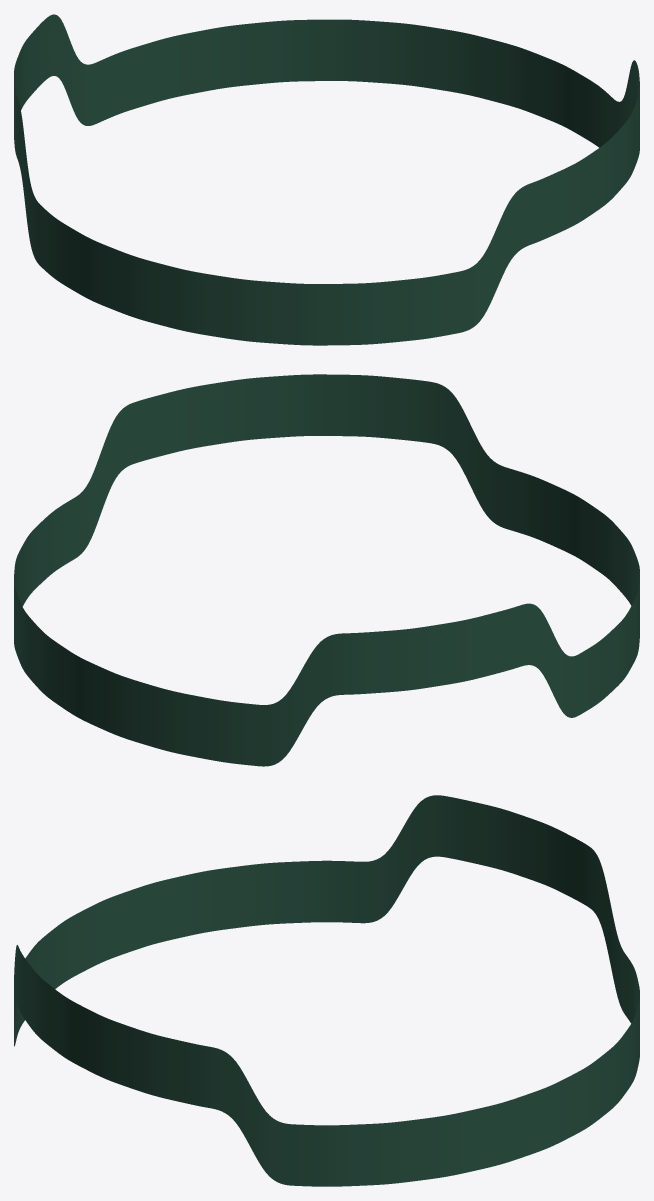
3 renders of one model, top to bottom at view 1: azimuth 30°, elevation 25°; view 2: azimuth 150°, elevation 25°; view 3: azimuth 270°, elevation 25°, orthographic.
Parts seen in each view (by area): view 1: Circle; view 2: Circle; view 3: Circle.
Part boxes in pixels (<box>): Circle: <box>14,14,639,345</box>; Circle: <box>14,374,639,766</box>; Circle: <box>14,795,639,1186</box>.
Bounding box in the file's own units: 4.4 × 1.05 × 4.4.
